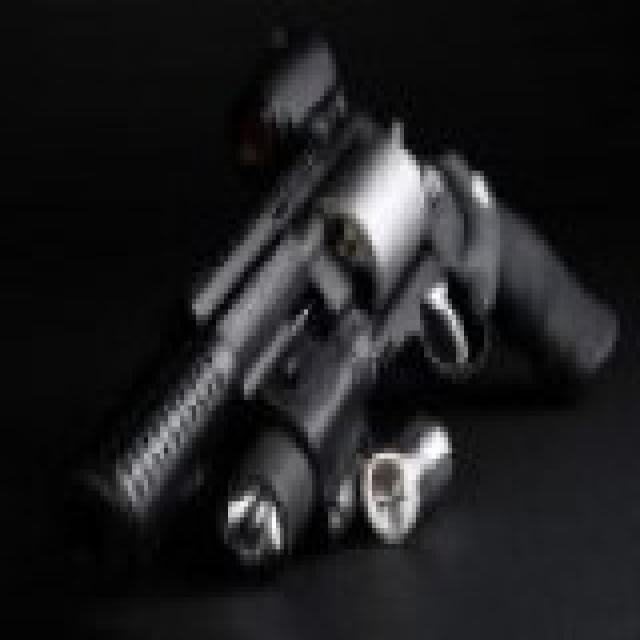Gun: (73, 52, 628, 576)
